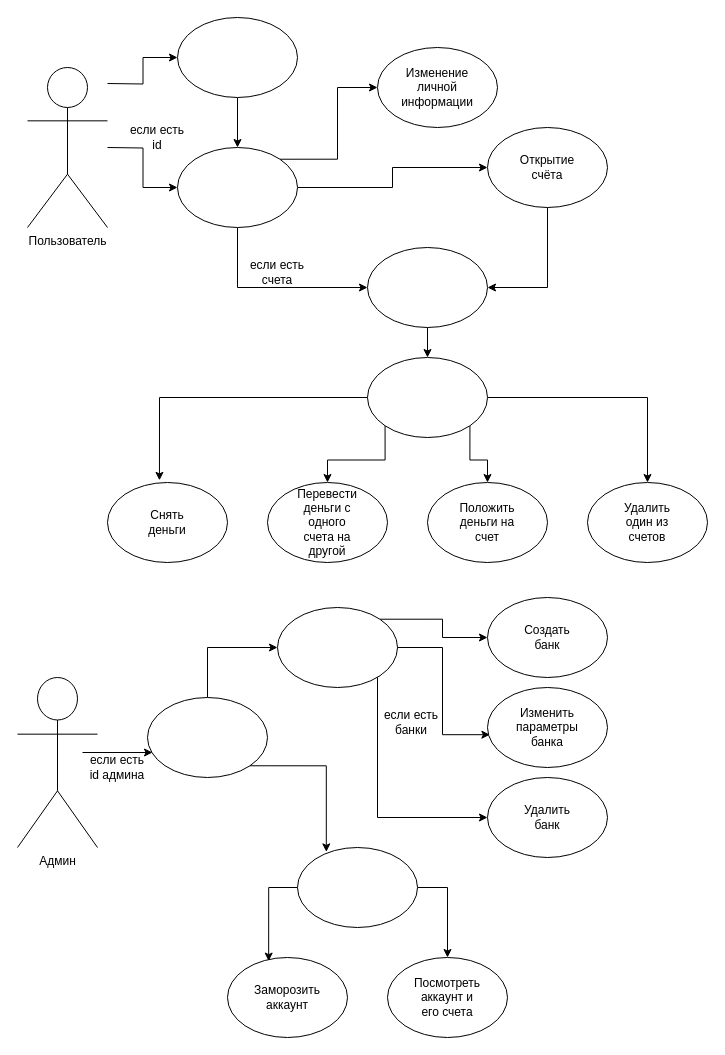
Some shapes in this 725 by 1055 pixel diagram are drawn without their labels. Each missing label, with the centre of its shape:
Вход в аккаунт: the point at 237,187
Вход как администратор: the point at 207,737
Выбор банка: the point at 427,397
Операции со счетами: the point at 427,287
Регистрация: the point at 237,57
Управление аккаунтами: the point at 357,887
Управление банками: the point at 337,647
